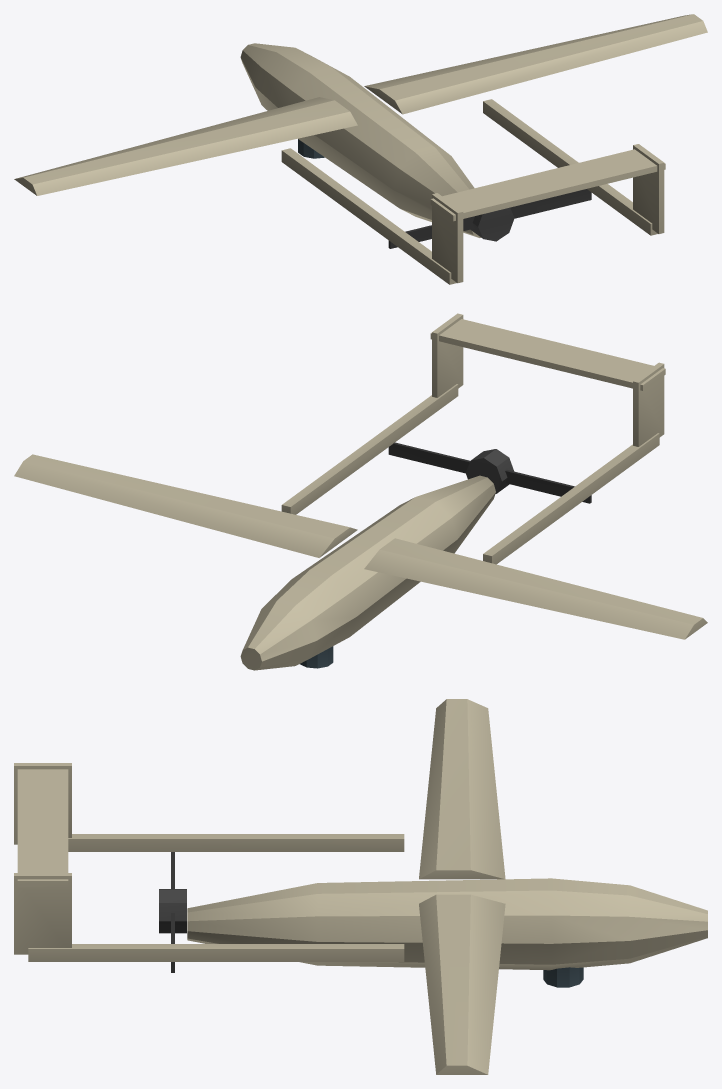
Rendered from rus_uav_orlan10.glb.
3 views of the same model, one above another, from view 1: azimuth 30°, elevation 25°; view 2: azimuth 150°, elevation 25°; view 3: azimuth 270°, elevation 25° (orthographic). The views are drawn at different scales.
Visible parts, largest first — view 1: body, propy_0; view 2: body, propy_0; view 3: body, propy_0.
Boxes of the visible parts, x1=… form: body: x1=14, y1=14, x2=707, y2=284; propy_0: x1=388, y1=189, x2=591, y2=248; body: x1=14, y1=313, x2=707, y2=670; propy_0: x1=388, y1=442, x2=591, y2=503; body: x1=14, y1=699, x2=707, y2=1074; propy_0: x1=159, y1=852, x2=186, y2=972.
Bounding box in the file's own units: 4.62 × 0.9394 × 3.7.
